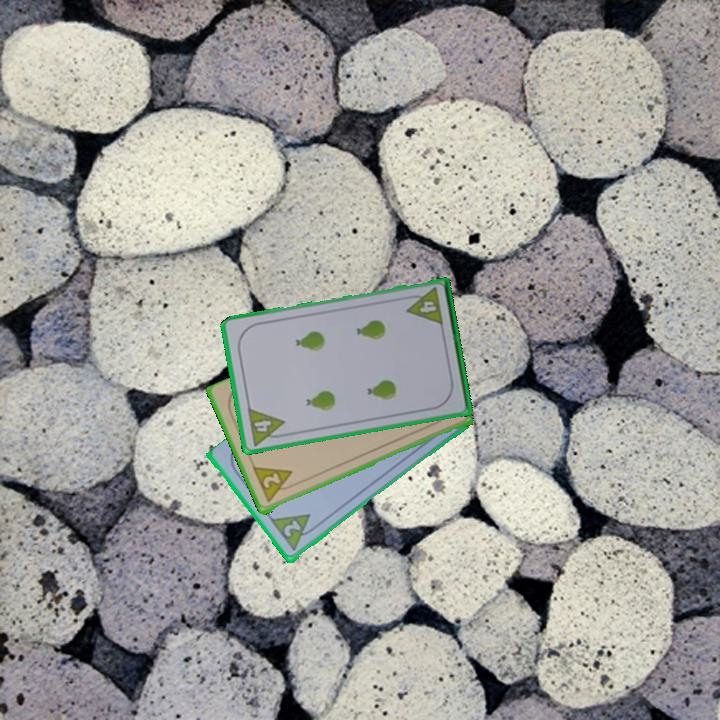2p: (249, 464, 299, 506), (280, 517, 304, 541)
4p: (244, 404, 289, 449), (402, 284, 446, 328)
